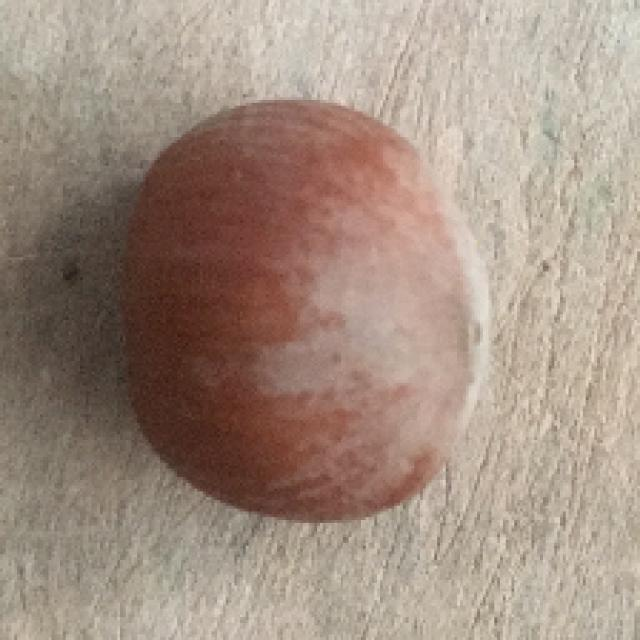qualityHazelnut: (123, 100, 490, 520)
